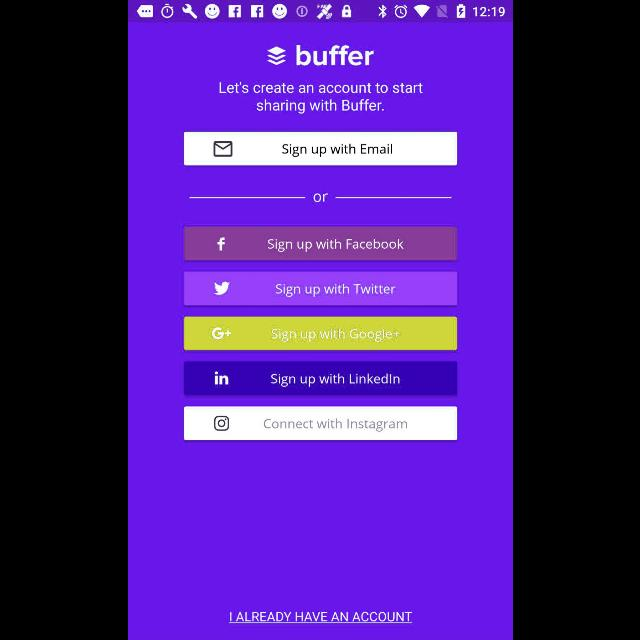image: (266, 46, 374, 66)
text: (218, 82, 422, 115), (228, 612, 412, 624), (313, 194, 327, 202)
textbutton: (184, 361, 456, 397), (184, 132, 456, 166), (184, 227, 456, 261), (184, 272, 456, 306), (184, 317, 456, 351), (184, 406, 456, 440)
uppertaskbar: (128, 1, 512, 23)
